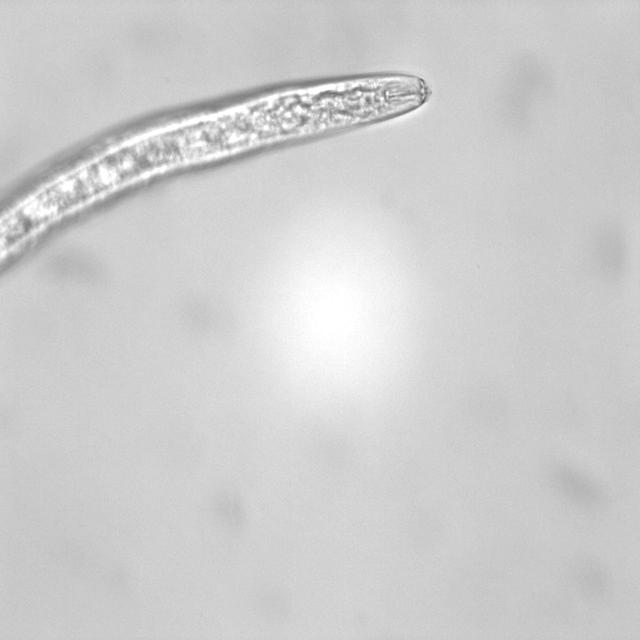Pratylenchus: (140, 63, 438, 197)
